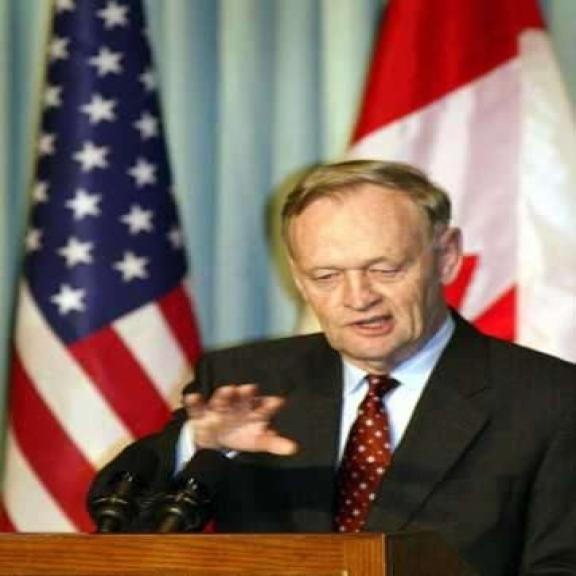face: (288, 193, 470, 364)
